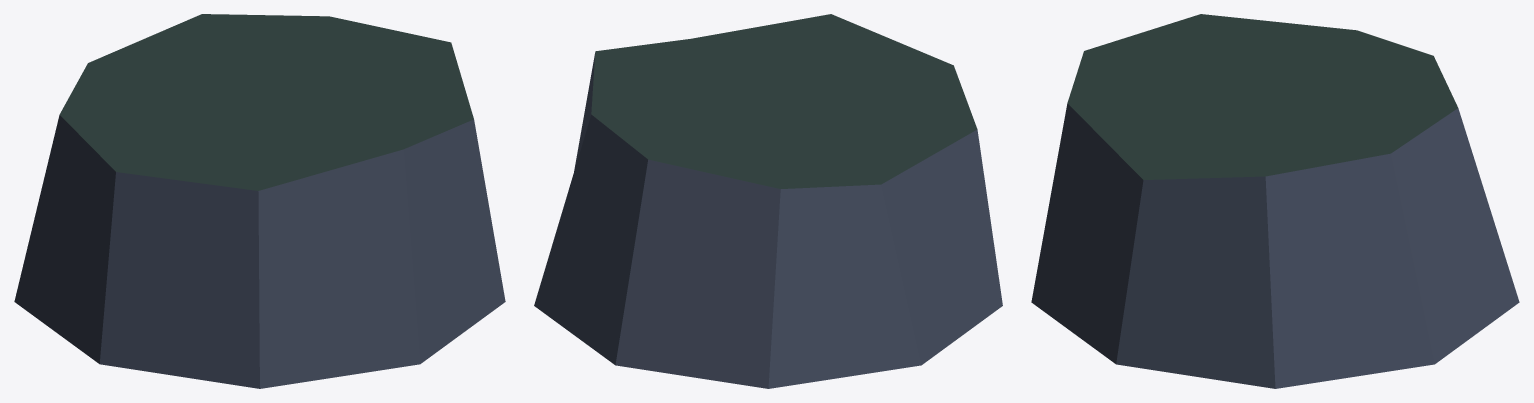
Rendered from stone.glb.
3 views of the same model, side by side, from view 1: azimuth 30°, elevation 25°; view 2: azimuth 150°, elevation 25°; view 3: azimuth 270°, elevation 25° (orthographic). The views are drawn at different scales.
Visible parts, largest first — view 1: Stone; view 2: Stone; view 3: Stone.
Part boxes in pixels (<box>): Stone: <box>14,14,505,388</box>; Stone: <box>534,14,1002,388</box>; Stone: <box>1031,14,1519,388</box>.
Size of the model in its own units: 1.28 by 0.5877 by 1.3.
